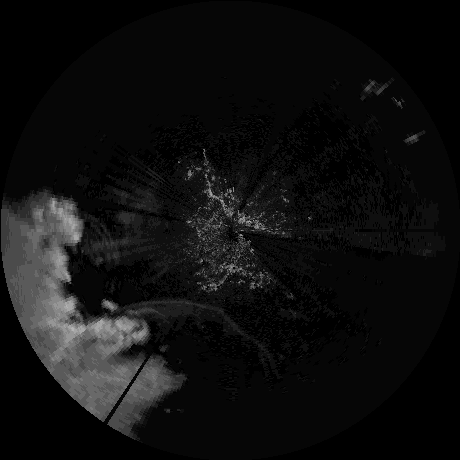frontgust: (113, 299, 275, 360), (129, 305, 165, 321)
